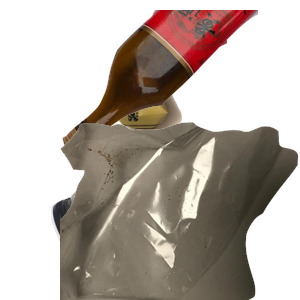glass: (60, 10, 300, 163)
metal: (105, 63, 300, 192)
plastic: (48, 152, 228, 300)
trash: (60, 120, 300, 300)
